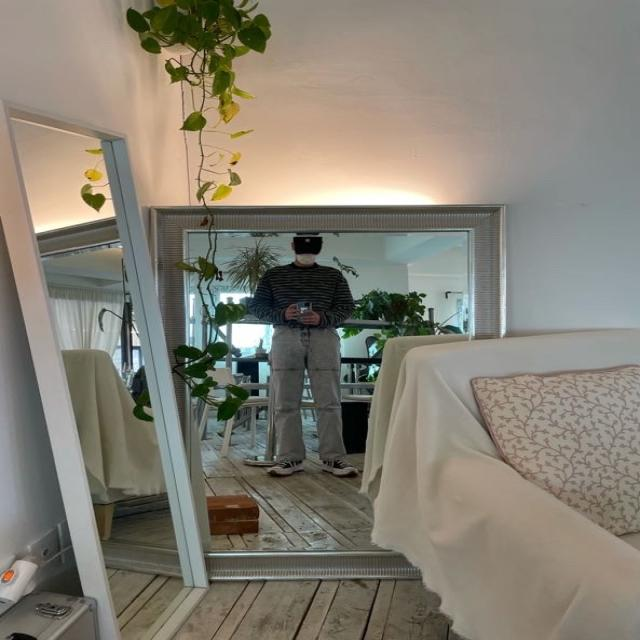denimpants: (264, 325, 346, 463)
sweater: (255, 261, 353, 330)
